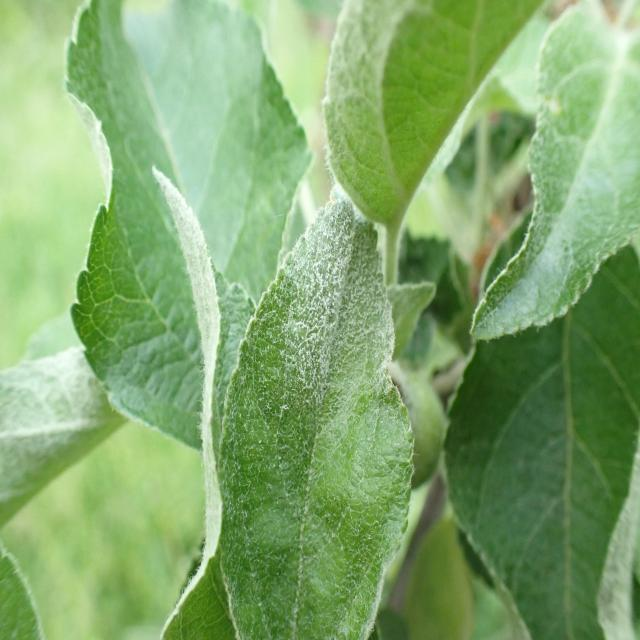Powdery_mildew: (235, 187, 408, 593), (156, 163, 266, 576)
